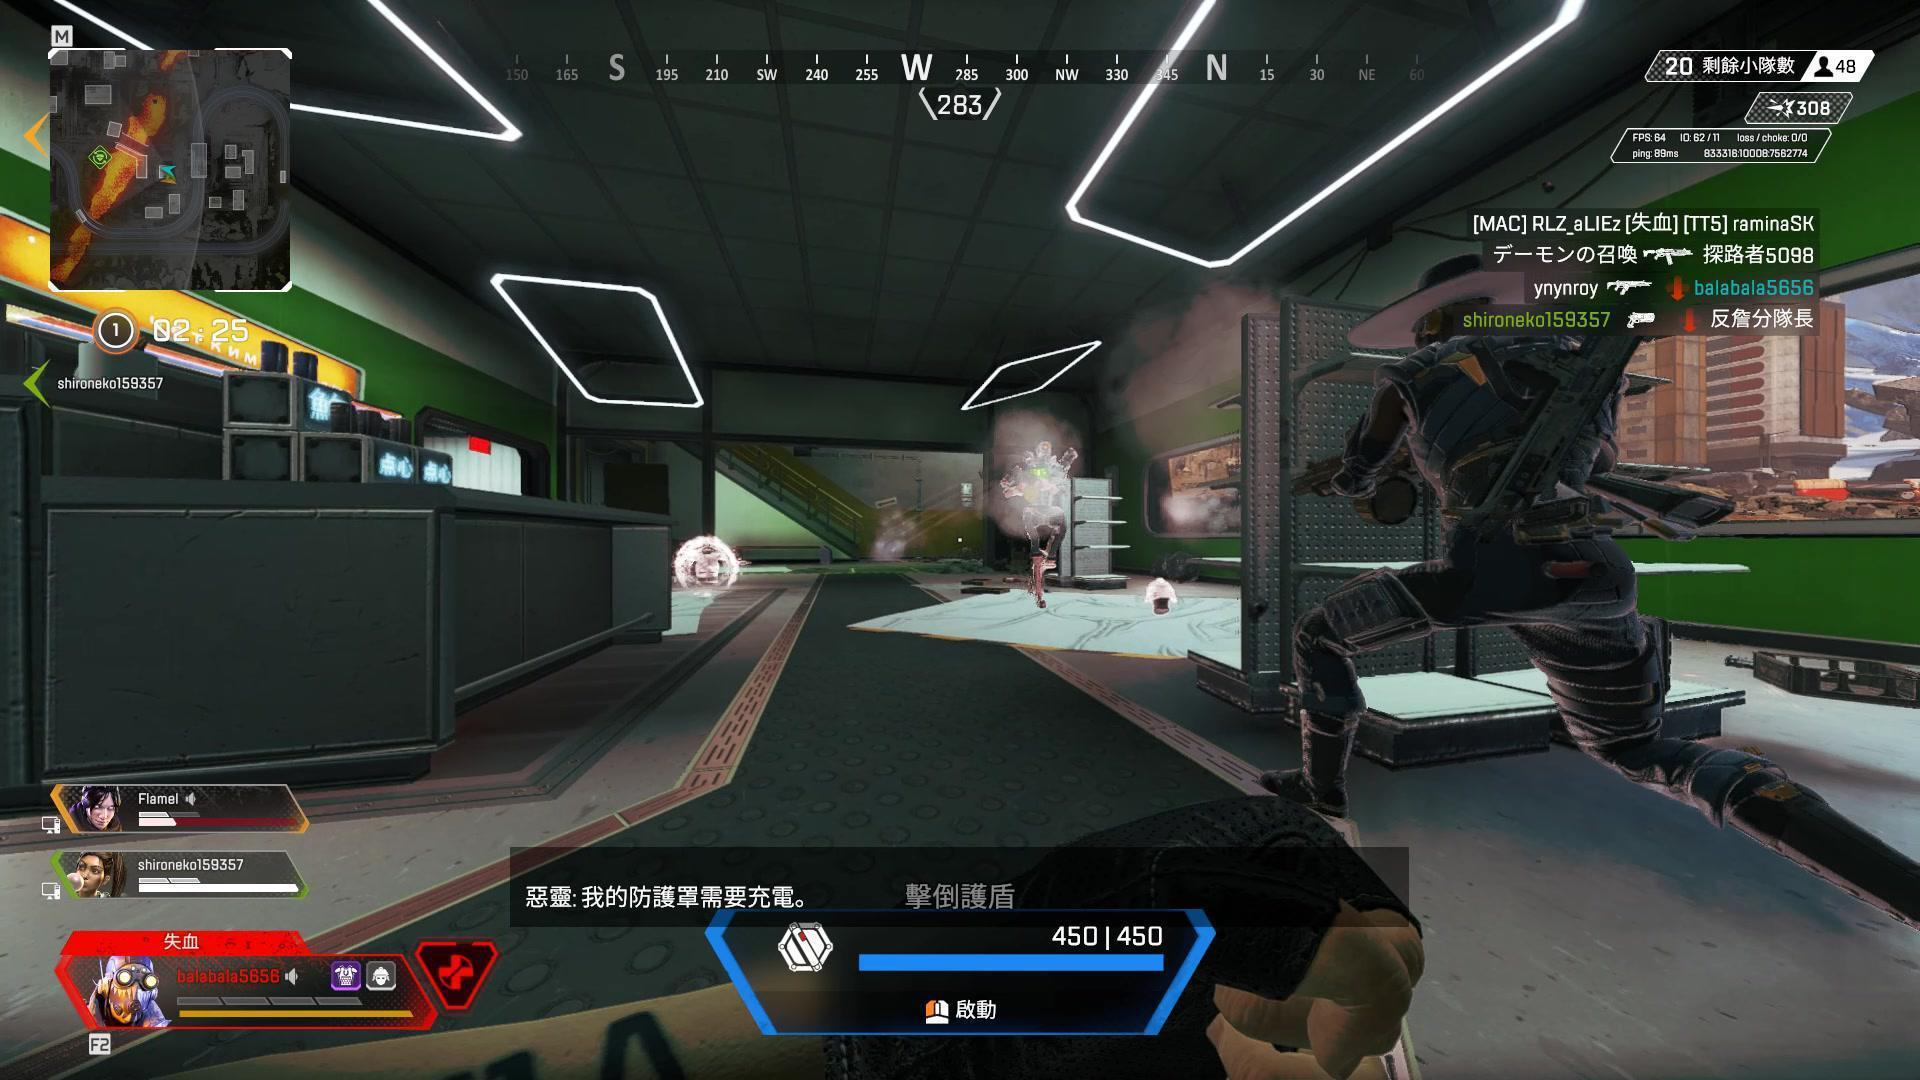avatar: (1290, 251, 1679, 821), (998, 436, 1078, 612)
